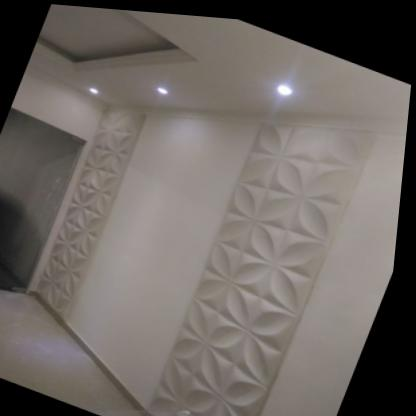Futech tiles: (156, 120, 377, 416)
